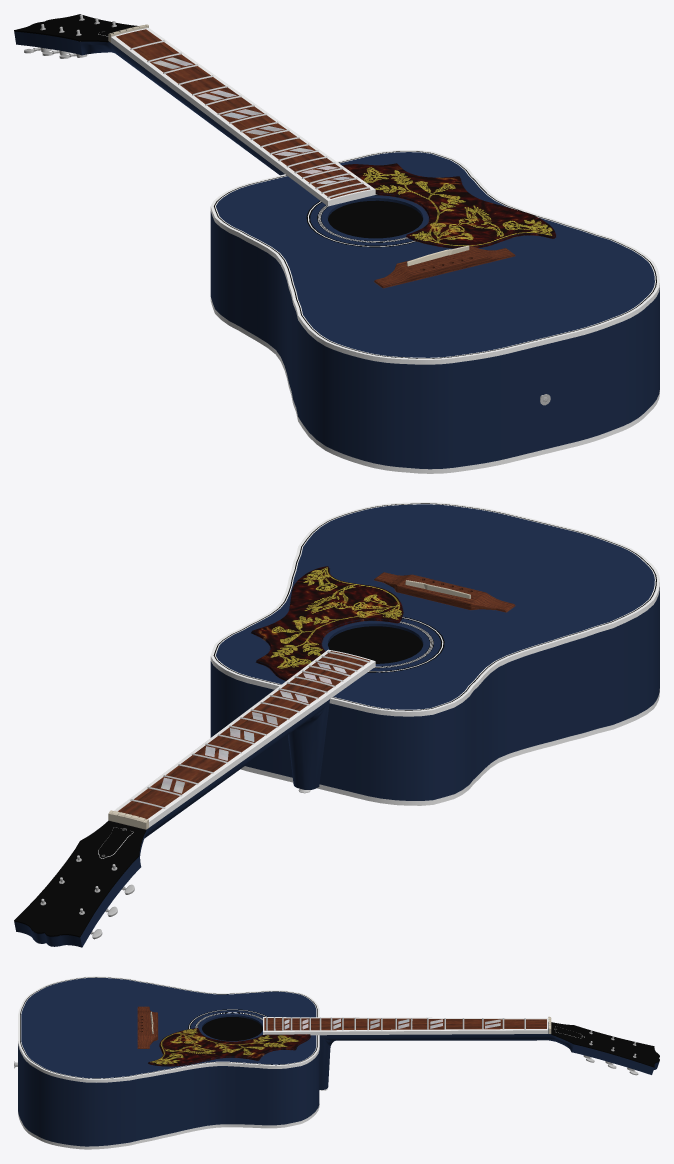
Rendered from 04_Acoustic_Guitar.glb.
The picture shows the model from 3 angles, top to bottom: view 1: azimuth 30°, elevation 25°; view 2: azimuth 150°, elevation 25°; view 3: azimuth 270°, elevation 25°; orthographic projection. The views are drawn at different scales.
Visible parts, largest first — view 1: 04_00_Merged_Guitar; view 2: 04_00_Merged_Guitar; view 3: 04_00_Merged_Guitar.
Part boxes in pixels (x1=…): 04_00_Merged_Guitar: x1=14, y1=14, x2=659, y2=473; 04_00_Merged_Guitar: x1=14, y1=502, x2=659, y2=947; 04_00_Merged_Guitar: x1=14, y1=976, x2=659, y2=1149.
Bounding box in the file's own units: 0.3747 × 0.1366 × 0.9894.
4 materials, 1 textured.
